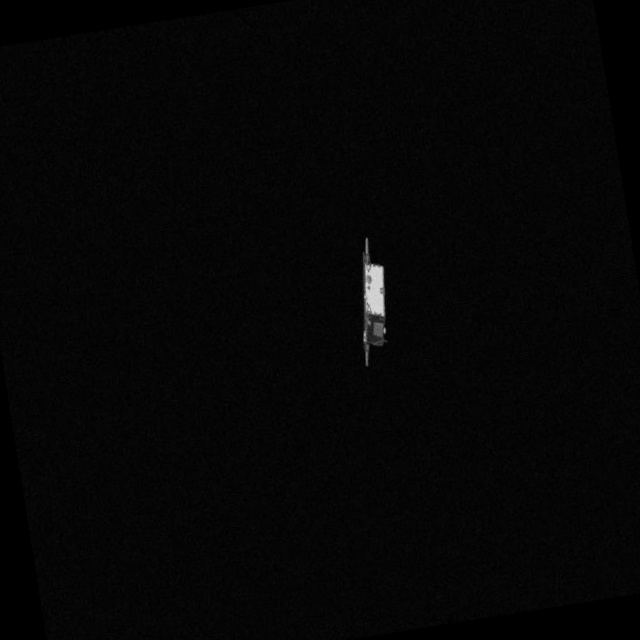satellite: (331, 226, 411, 377)
